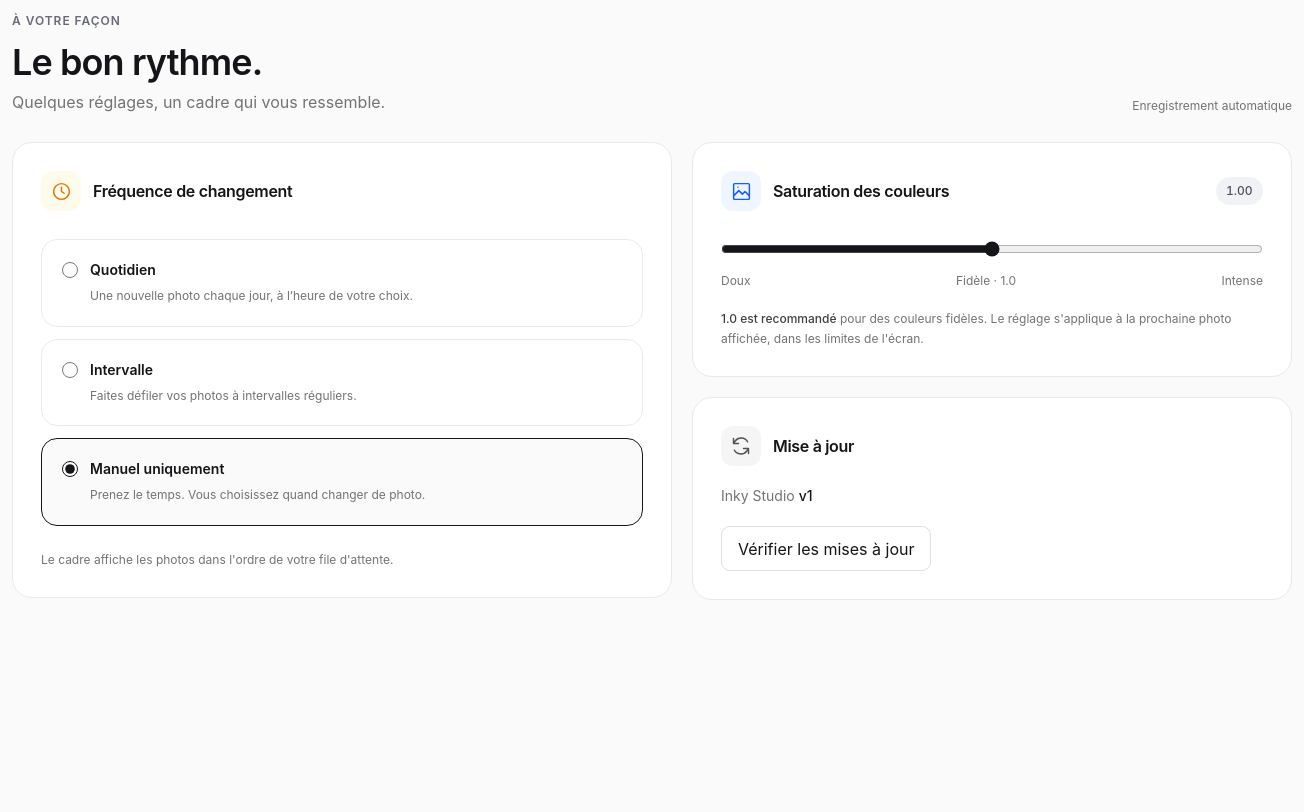
Test: UI stability regressions › shows failure of an explicit update check
Click the button "Vérifier les mises à jour": x=826, y=549 [721,526,932,571]
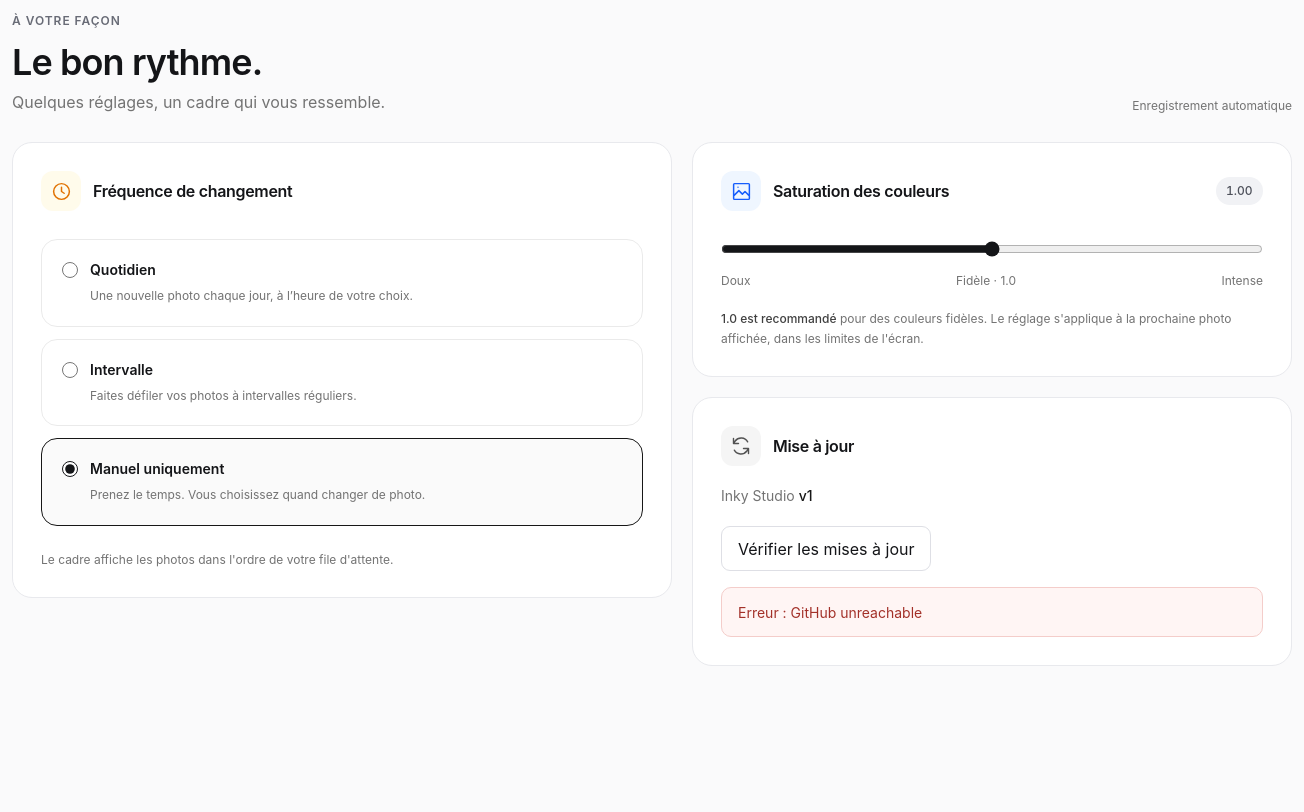
Expected: the text "Erreur : GitHub unreachable" is shown, [721,587,1263,637]
